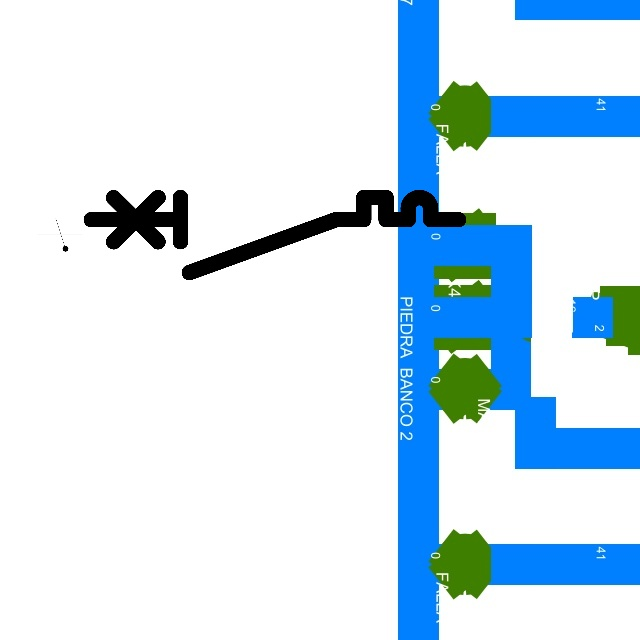interruptor_termomagnetico: (81, 188, 467, 282)
